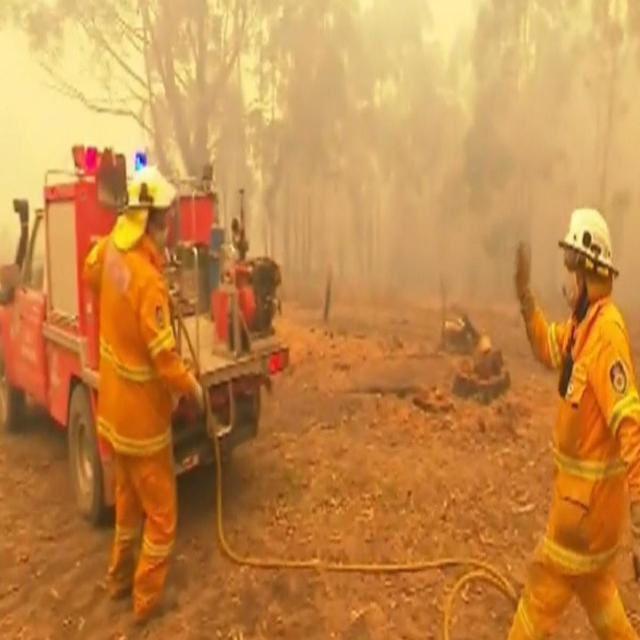Smoke: (267, 0, 640, 315)
